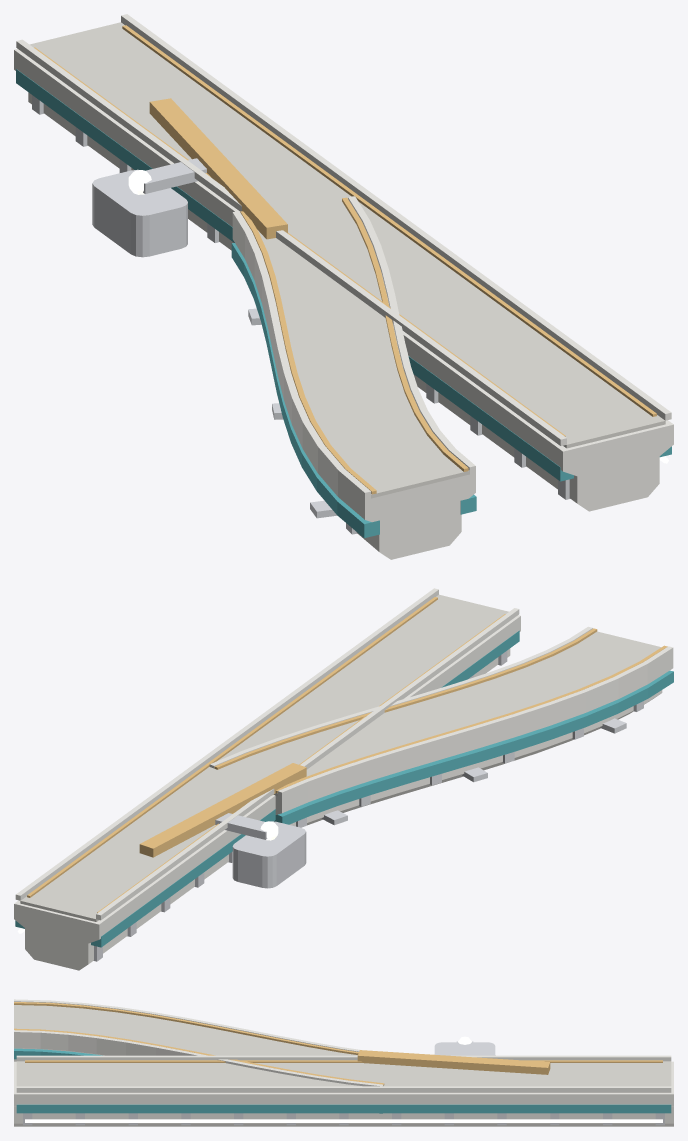
Rendered from arcology-towers-and-skyways-maglev-guideway-switch-ee1105a8__23258.glb.
3 views of the same model, one above another, from view 1: azimuth 30°, elevation 25°; view 2: azimuth 150°, elevation 25°; view 3: azimuth 270°, elevation 25° (orthographic). The views are drawn at different scales.
Visible parts, largest first — view 1: maglev-guideway-switch, point-blade; view 2: maglev-guideway-switch, point-blade; view 3: maglev-guideway-switch, point-blade.
Part boxes in pixels (x1,y1,x2,y2): maglev-guideway-switch: [14, 14, 673, 559]; point-blade: [149, 98, 287, 239]; maglev-guideway-switch: [14, 588, 673, 970]; point-blade: [139, 763, 306, 857]; maglev-guideway-switch: [14, 999, 673, 1126]; point-blade: [357, 1050, 550, 1074].
Bounding box in the file's own units: 7.93 × 2.03 × 24.
